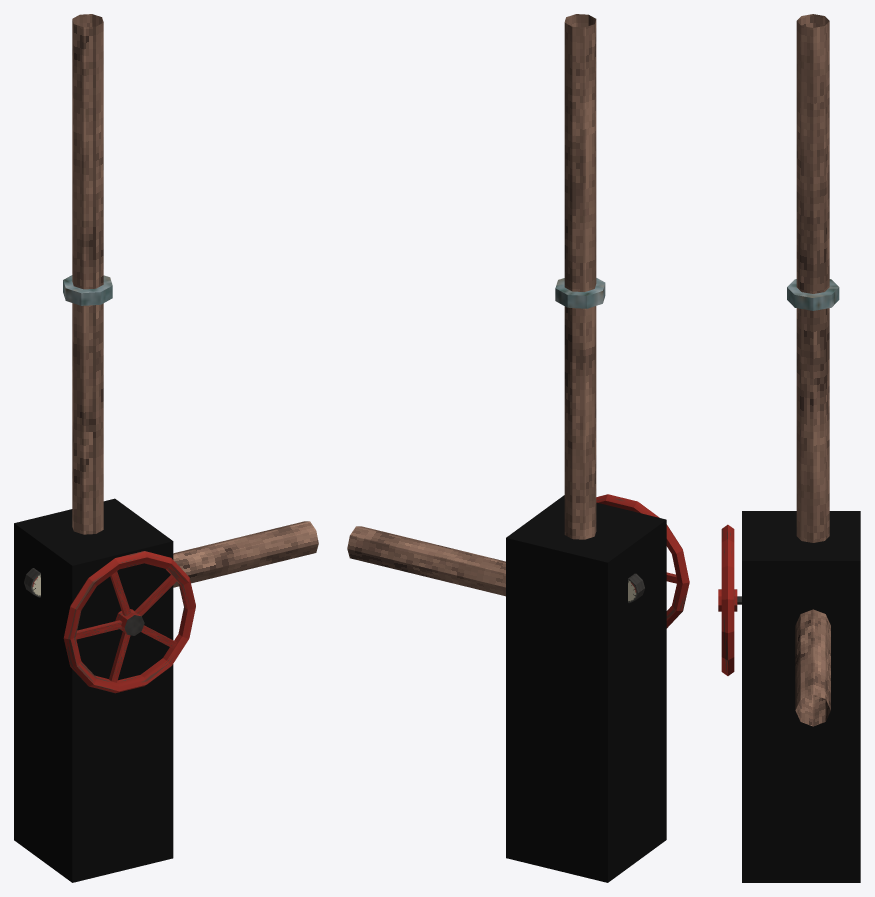
File: valve_r.fbx
3 views of the same model, side by side, from view 1: azimuth 30°, elevation 25°; view 2: azimuth 150°, elevation 25°; view 3: azimuth 270°, elevation 25° (orthographic).
Visible parts, largest first — view 1: col_post, valve_r, wheel; view 2: col_post, valve_r, wheel; view 3: col_post, valve_r, wheel.
Part boxes in pixels (left/top/right/bottom): col_post: left=14, top=498, right=173, bottom=882; valve_r: left=24, top=14, right=318, bottom=597; wheel: left=63, top=551, right=195, bottom=693; col_post: left=506, top=495, right=666, bottom=882; valve_r: left=347, top=14, right=644, bottom=603; wheel: left=596, top=494, right=689, bottom=628; col_post: left=742, top=511, right=860, bottom=882; valve_r: left=737, top=14, right=839, bottom=726; wheel: left=718, top=524, right=737, bottom=675.
Size of the model in its own units: 1.43 by 3.9 by 0.6.
3 materials, 3 textured.
